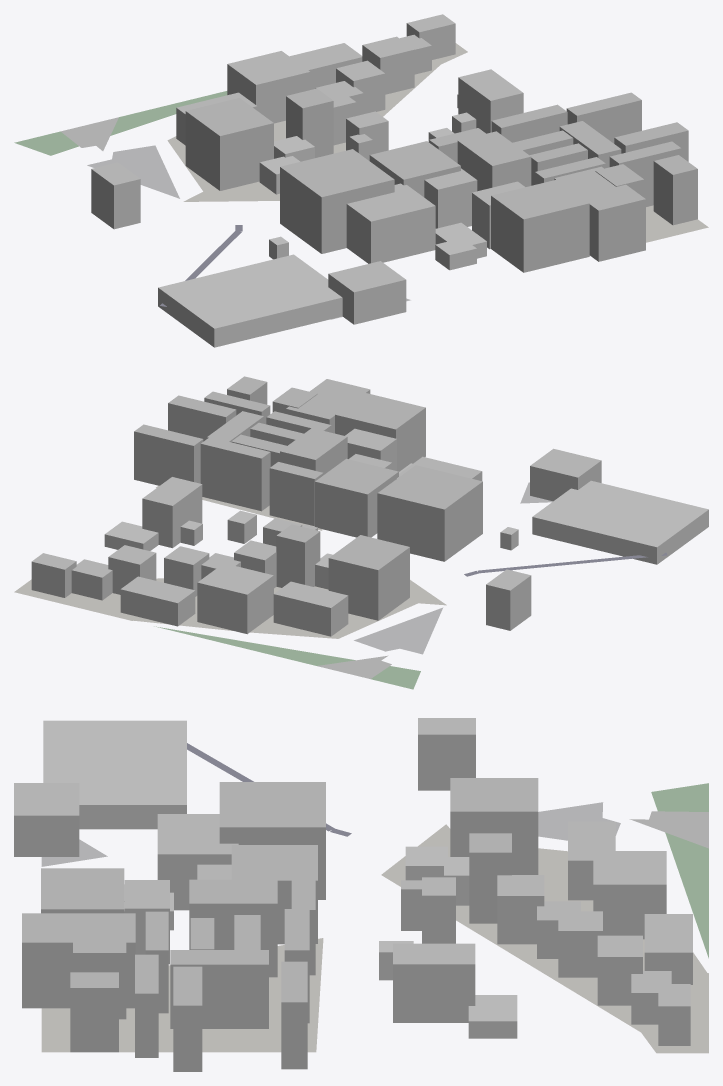
File: 114_85_mid.glb
3 views of the same model, one above another, from view 1: azimuth 30°, elevation 25°; view 2: azimuth 150°, elevation 25°; view 3: azimuth 270°, elevation 25° (orthographic). The views are drawn at different scales.
Size of the model in its own units: 585 by 62.28 by 521.
